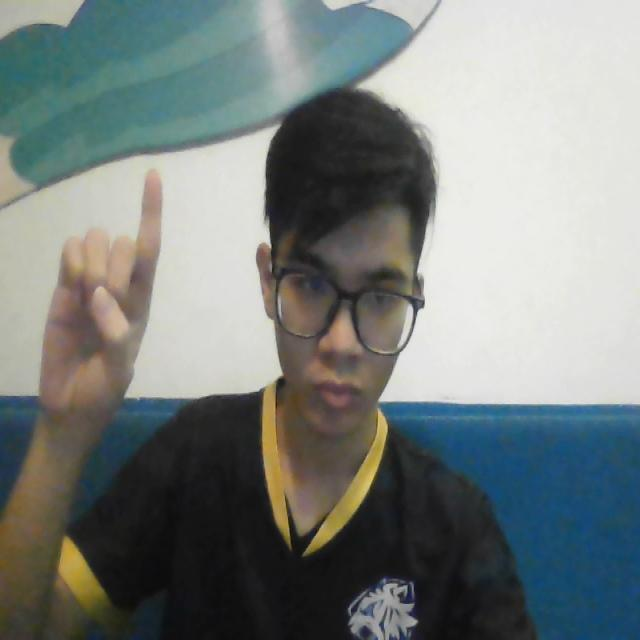D: (36, 164, 166, 426)
